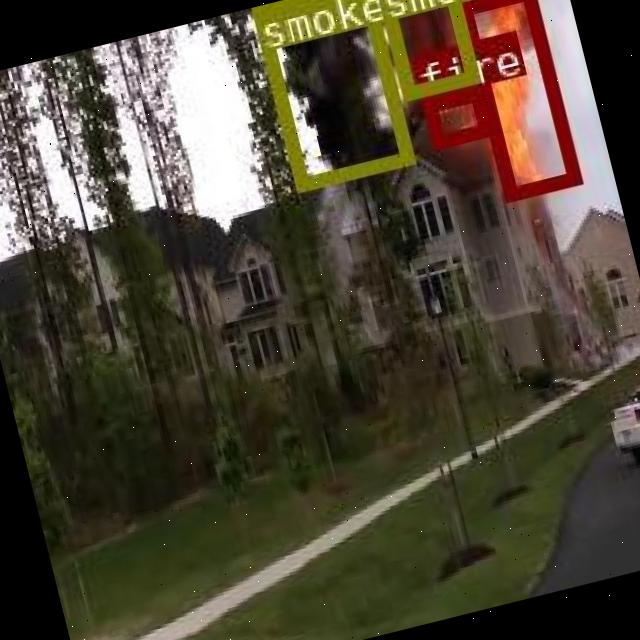fire: (453, 0, 579, 199), (420, 84, 490, 146)
smoke: (249, 0, 410, 188), (371, 0, 475, 97)
